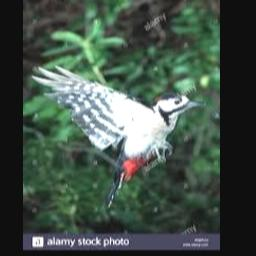Woodpecker: (32, 64, 206, 208)
